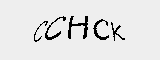К: (108, 22, 125, 41)
Н: (68, 15, 90, 40)
С: (44, 13, 66, 43), (32, 15, 49, 44), (93, 17, 110, 42)
